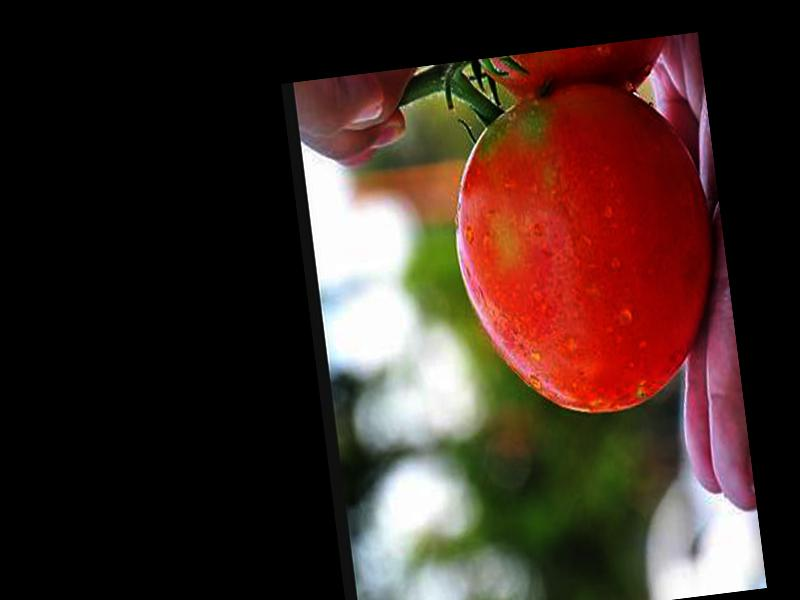Tomato: (438, 73, 729, 427)
